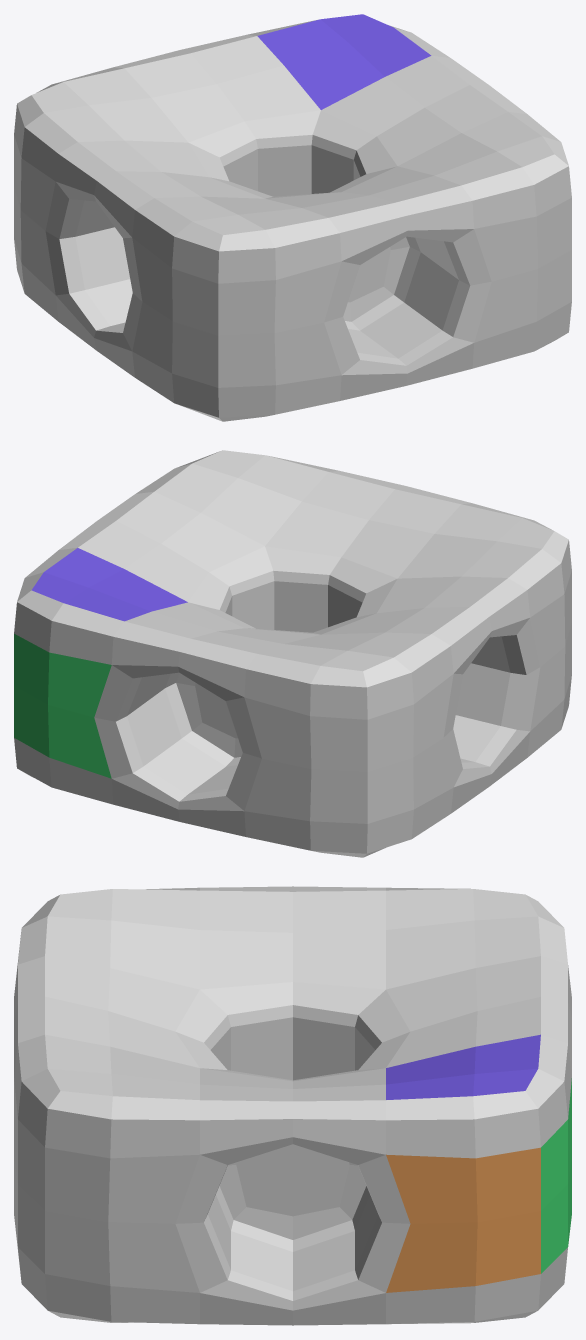
3 views of the same model, one above another, from view 1: azimuth 30°, elevation 25°; view 2: azimuth 150°, elevation 25°; view 3: azimuth 270°, elevation 25° (orthographic). The views are drawn at different scales.
Visible parts, largest first — view 1: Base1.002; view 2: Base1.002; view 3: Base1.002.
Boxes of the visible parts, bbox=[...] form: Base1.002: bbox=[14, 14, 571, 421]; Base1.002: bbox=[14, 450, 571, 857]; Base1.002: bbox=[14, 886, 571, 1325].
Bounding box in the file's own units: 2 × 0.8973 × 2.
